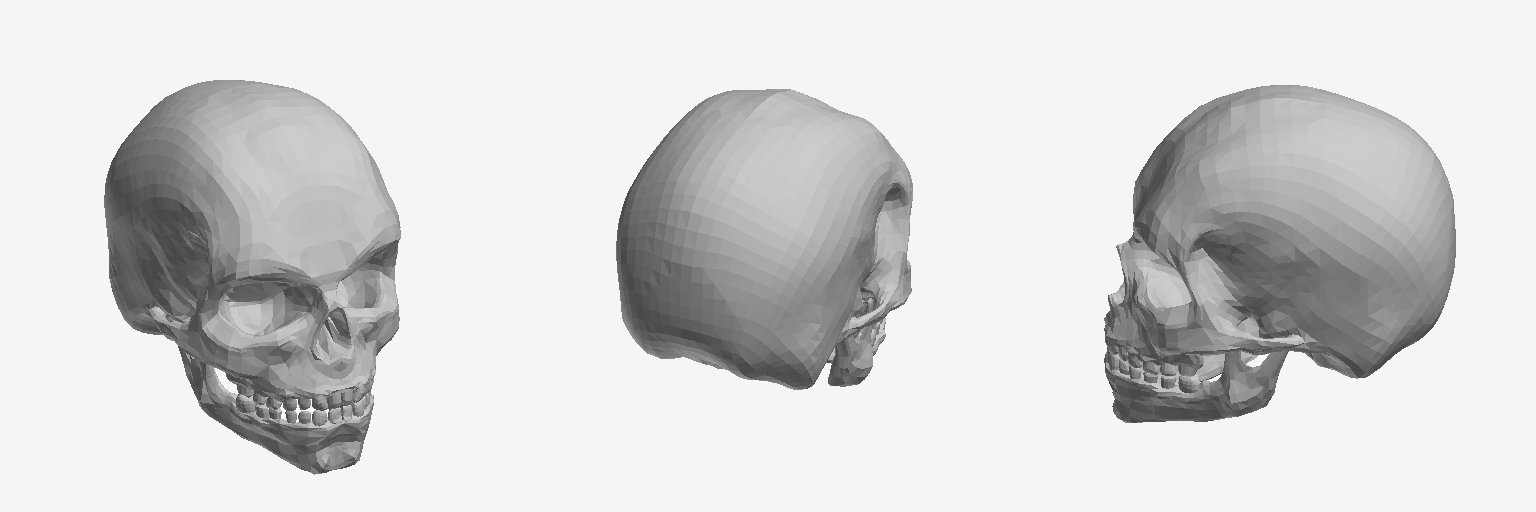
File: SKULL_UV.OBJ
The picture shows the model from 3 angles: view 1: azimuth 30°, elevation 25°; view 2: azimuth 150°, elevation 25°; view 3: azimuth 270°, elevation 25°; orthographic projection.
Parts seen in each view (by area): view 1: Group1974, Group1989, Group52287, Group47650; view 2: Group1974, Group1989; view 3: Group1974, Group1989, Group52287, Group47650.
Part boxes in pixels (x1,y1,x2,y2): Group1974: (104, 80, 400, 402); Group1989: (168, 317, 373, 474); Group52287: (236, 391, 370, 426); Group47650: (236, 378, 373, 410); Group1974: (616, 89, 912, 389); Group1989: (826, 298, 885, 386); Group1974: (1104, 85, 1455, 378); Group1989: (1104, 318, 1288, 422); Group52287: (1105, 347, 1199, 393); Group47650: (1105, 325, 1197, 376).
Size of the model in its own units: 1.47 by 2.08 by 2.09.